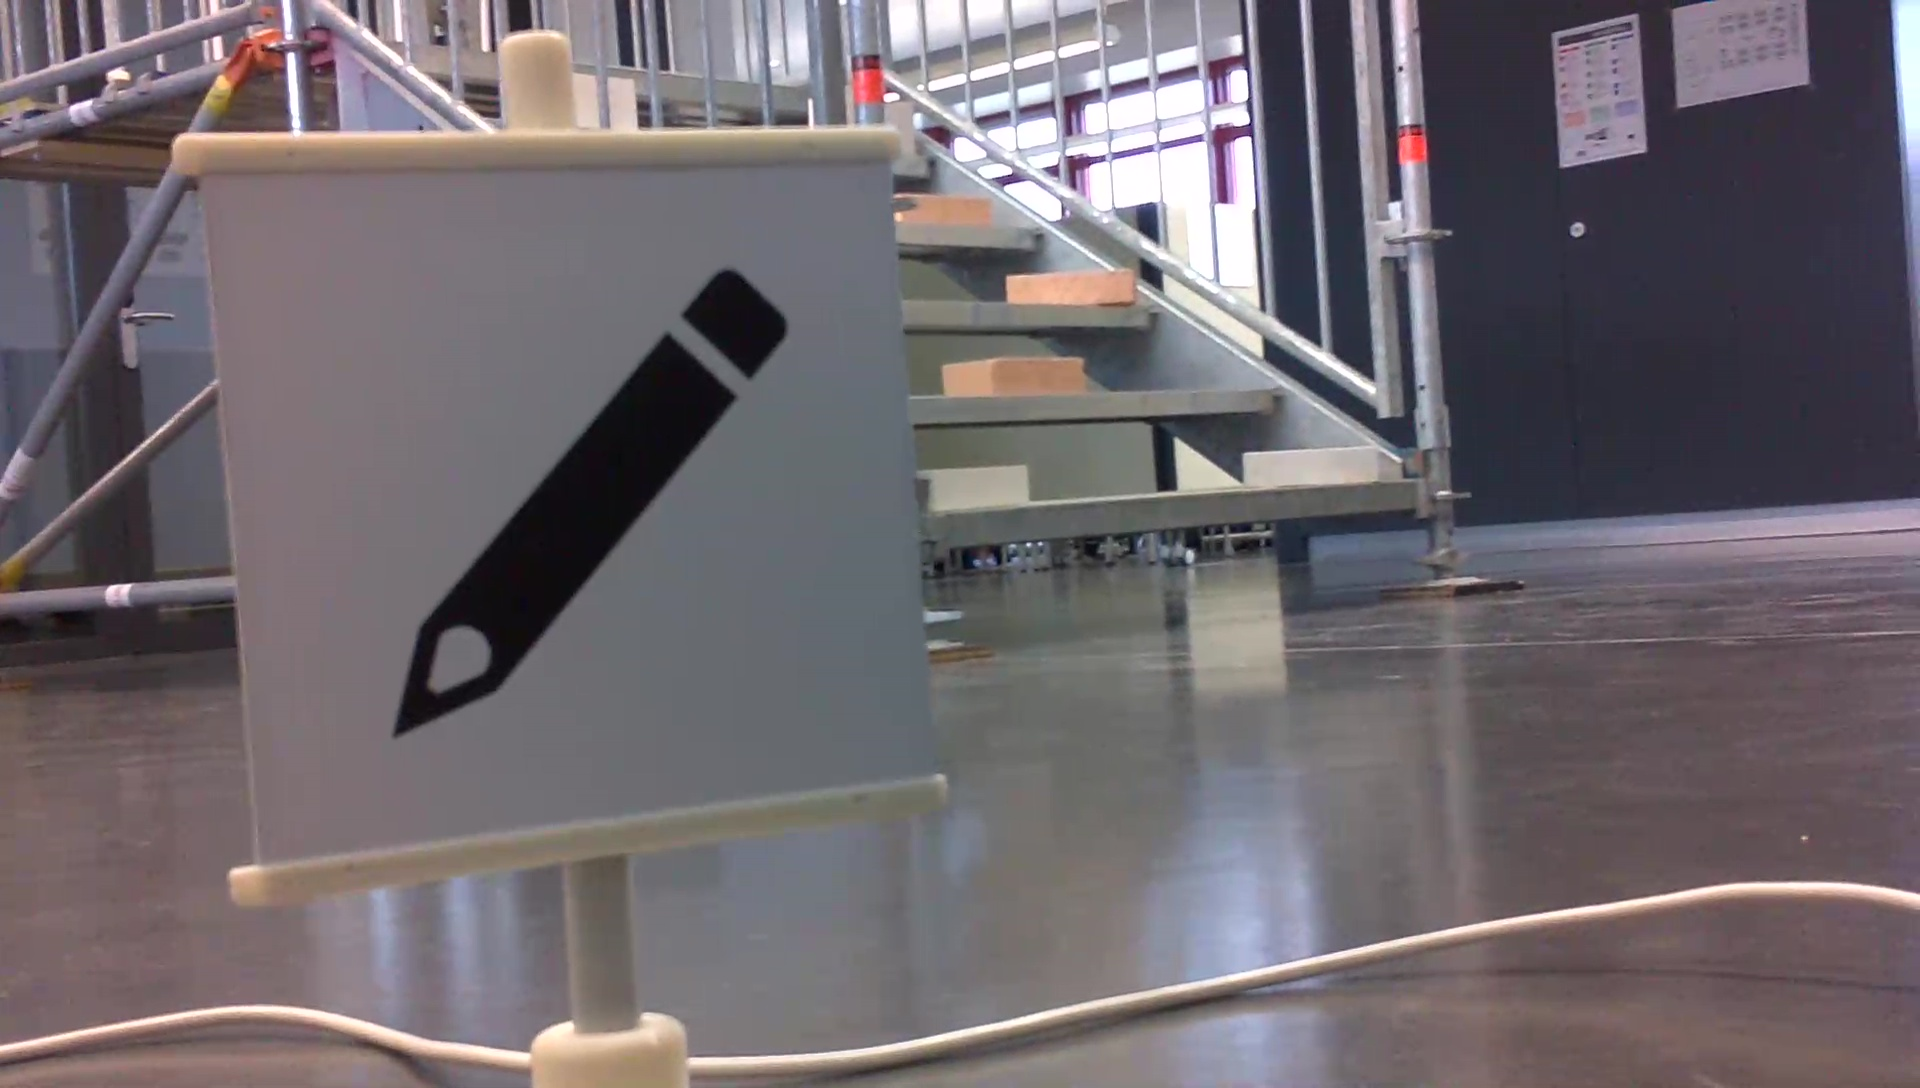brick: (923, 468, 1025, 516), (945, 357, 1080, 393), (1247, 446, 1375, 483), (1010, 270, 1133, 305), (899, 193, 993, 226)
edge: (938, 485, 1412, 542), (913, 386, 1283, 421), (901, 301, 1153, 327), (895, 222, 1048, 243)
pencil: (376, 249, 800, 752)
